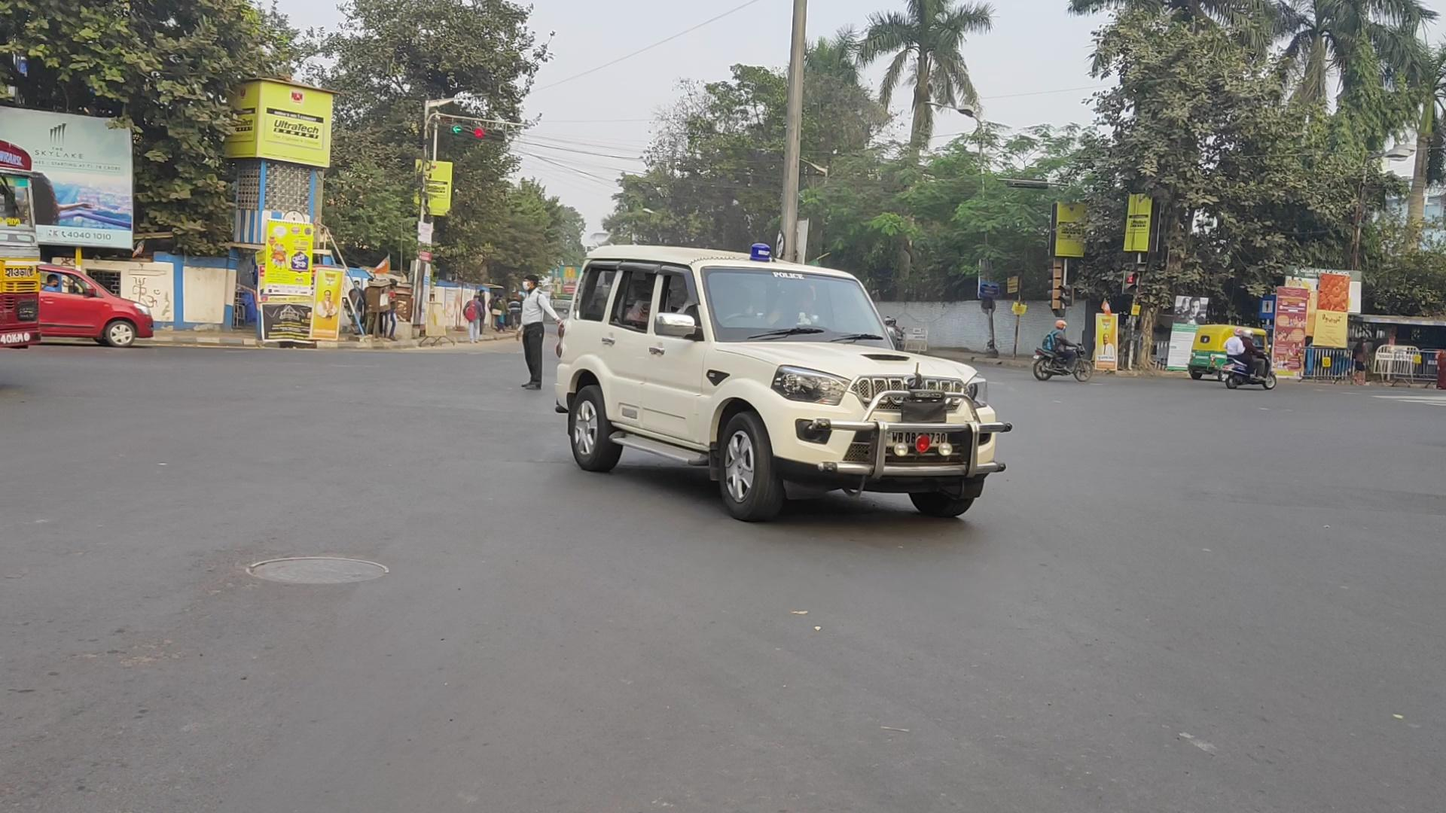Auto: (1188, 324, 1273, 382)
bike: (1033, 319, 1094, 383), (1221, 328, 1277, 390)
car: (556, 243, 1011, 523), (11, 260, 155, 349)
